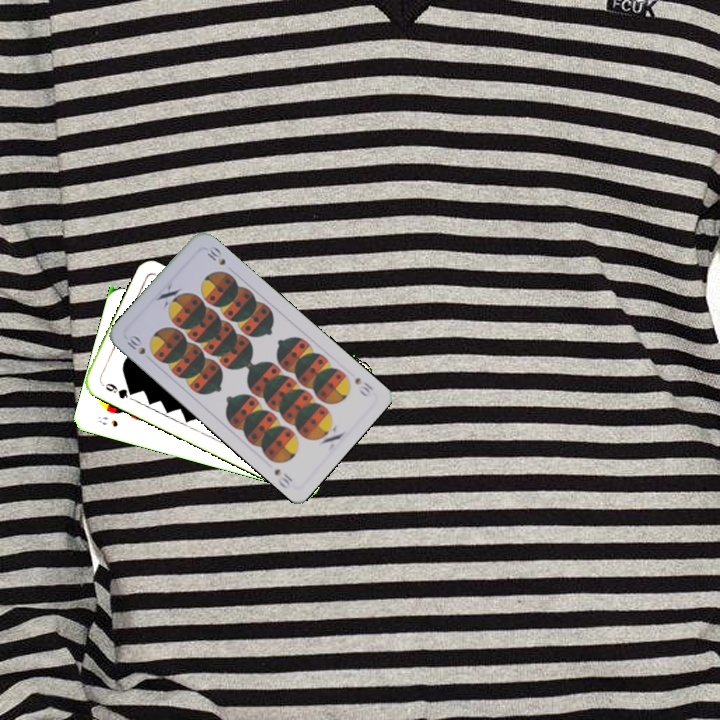G9: (101, 379, 137, 401)
S10: (350, 373, 376, 400), (123, 331, 148, 357)
S8: (94, 412, 120, 430)
